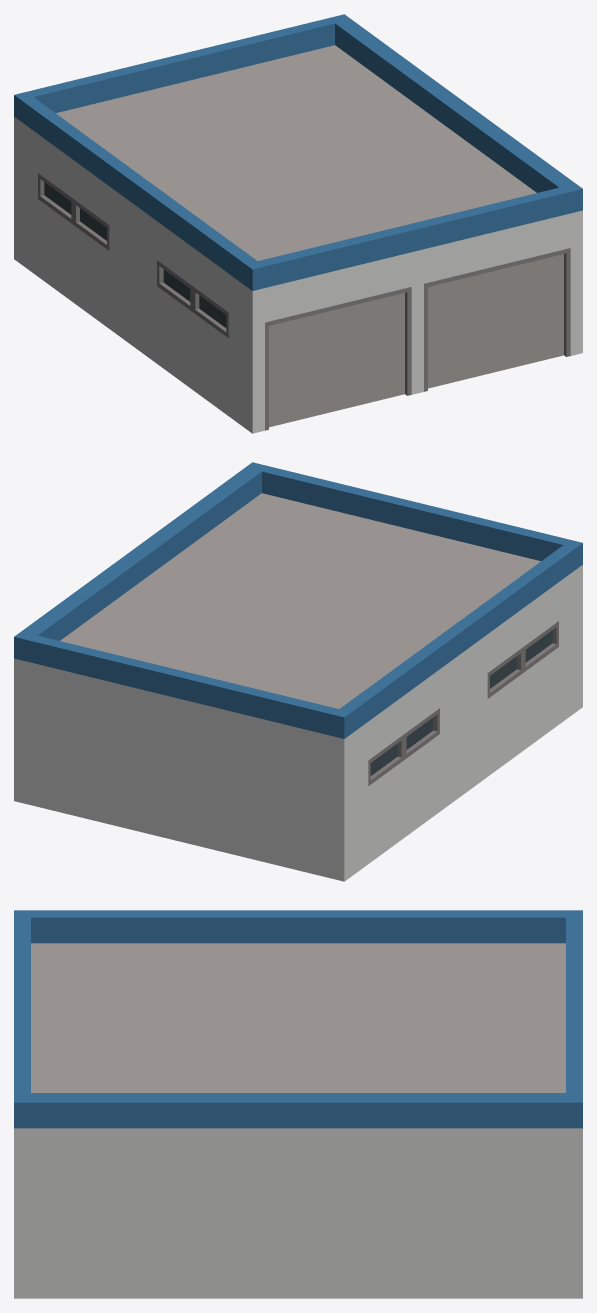
File: buildings_building-policestation-garage.fbx
The picture shows the model from 3 angles, top to bottom: view 1: azimuth 30°, elevation 25°; view 2: azimuth 150°, elevation 25°; view 3: azimuth 270°, elevation 25°; orthographic projection. The views are drawn at different scales.
Parts seen in each view (by area): view 1: buildings_building_policestation_garage; view 2: buildings_building_policestation_garage; view 3: buildings_building_policestation_garage.
Boxes of the visible parts, <box> form: buildings_building_policestation_garage: <box>14,14,582,433</box>; buildings_building_policestation_garage: <box>14,462,582,881</box>; buildings_building_policestation_garage: <box>14,910,582,1298</box>.
Size of the model in its own units: 160 by 76 by 200.
